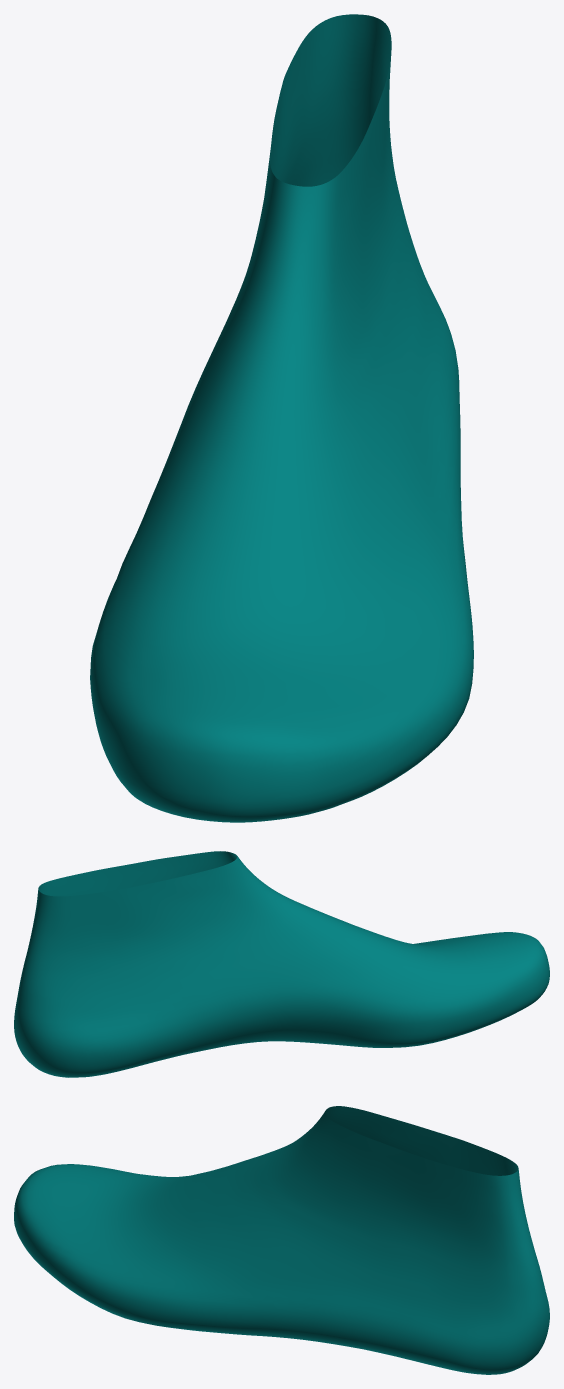
File: last.obj
3 renders of one model, top to bottom at view 1: azimuth 30°, elevation 25°; view 2: azimuth 150°, elevation 25°; view 3: azimuth 270°, elevation 25°, orthographic. The views are drawn at different scales.
Visible parts, largest first — view 1: Group1936; view 2: Group1936; view 3: Group1936.
Boxes of the visible parts, box(x1,y1,x2,y2) form: Group1936: box(90, 14, 473, 822); Group1936: box(14, 851, 549, 1077); Group1936: box(14, 1106, 549, 1374).
Bounding box in the file's own units: 215 × 124 × 269.
